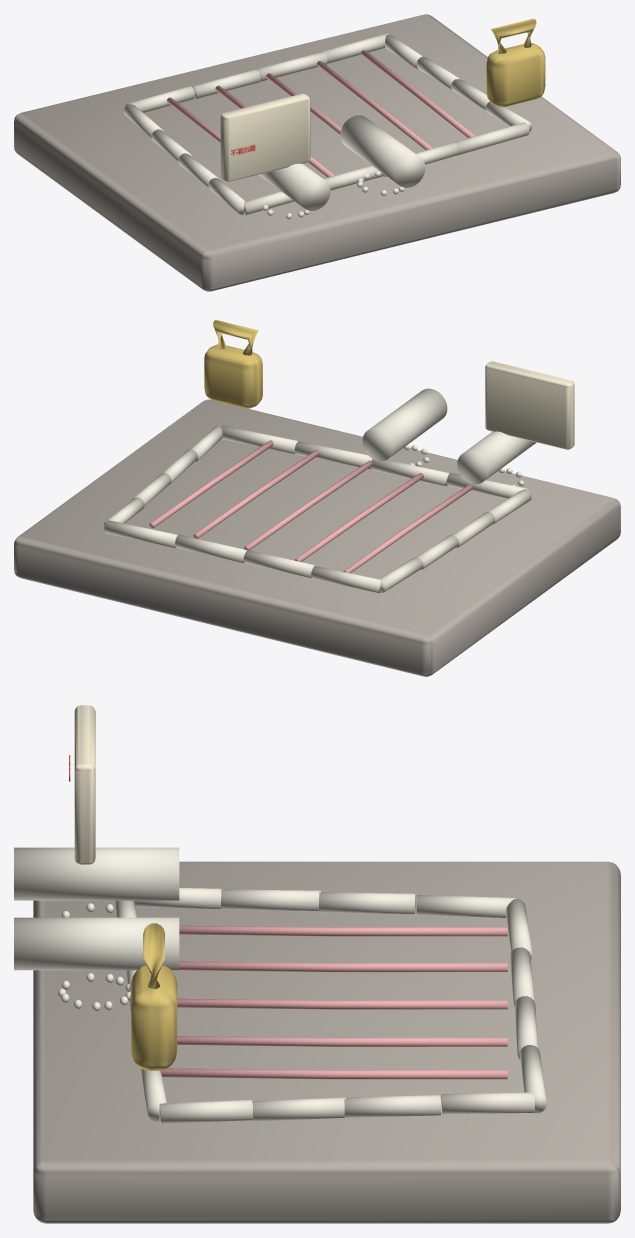
File: Q08_Chalk_Draw_Prison.glb
3 renders of one model, top to bottom at view 1: azimuth 30°, elevation 25°; view 2: azimuth 150°, elevation 25°; view 3: azimuth 270°, elevation 25°, orthographic. The views are drawn at different scales.
Visible parts, largest first — view 1: Q08 low rough tactile school classroom floor slab, Q08_CHALK_PRISON_ACTOR | Real white plaster molded chalk sti, Q08 written discipline notice paper sign, Q08_CHALK_STICK_ACTOR | Real white plaster molded chalk stic, Q08_LOCK_ACTOR | School gold brass lock and key old hardware, Q08_CHALK_PRISON_ACTOR | Pastel pink fluorescent-looking non; view 2: Q08 low rough tactile school classroom floor slab, Q08_CHALK_PRISON_ACTOR | Real white plaster molded chalk sti, Q08 written discipline notice paper sign, Q08_CHALK_STICK_ACTOR | Real white plaster molded chalk stic, Q08_CHALK_PRISON_ACTOR | Pastel pink fluorescent-looking non, Q08_LOCK_ACTOR | School gold brass lock and key old hardware; view 3: Q08 low rough tactile school classroom floor slab, Q08_CHALK_PRISON_ACTOR | Real white plaster molded chalk sti, Q08_CHALK_STICK_ACTOR | Real white plaster molded chalk stic, Q08_CHALK_PRISON_ACTOR | Pastel pink fluorescent-looking non, Q08_LOCK_ACTOR | School gold brass lock and key old hardware, Q08 written discipline notice paper sign.
Part boxes in pixels (x1,y1,x2,y2): Q08 low rough tactile school classroom floor slab: (14, 14, 620, 291); Q08_CHALK_PRISON_ACTOR | Real white plaster molded chalk sti: (123, 33, 532, 215); Q08 written discipline notice paper sign: (220, 93, 310, 181); Q08_CHALK_STICK_ACTOR | Real white plaster molded chalk stic: (259, 115, 425, 219); Q08_LOCK_ACTOR | School gold brass lock and key old hardware: (486, 18, 545, 107); Q08_CHALK_PRISON_ACTOR | Pastel pink fluorescent-looking non: (167, 50, 475, 177); Q08 low rough tactile school classroom floor slab: (14, 399, 620, 676); Q08_CHALK_PRISON_ACTOR | Real white plaster molded chalk sti: (104, 425, 531, 593); Q08 written discipline notice paper sign: (485, 361, 574, 449); Q08_CHALK_STICK_ACTOR | Real white plaster molded chalk stic: (362, 388, 536, 486); Q08_CHALK_PRISON_ACTOR | Pastel pink fluorescent-looking non: (149, 440, 472, 573); Q08_LOCK_ACTOR | School gold brass lock and key old hardware: (204, 320, 262, 408); Q08 low rough tactile school classroom floor slab: (33, 861, 620, 1223); Q08_CHALK_PRISON_ACTOR | Real white plaster molded chalk sti: (114, 888, 546, 1123); Q08_CHALK_STICK_ACTOR | Real white plaster molded chalk stic: (14, 847, 179, 1011); Q08_CHALK_PRISON_ACTOR | Pastel pink fluorescent-looking non: (160, 925, 507, 1079); Q08_LOCK_ACTOR | School gold brass lock and key old hardware: (131, 923, 177, 1070); Q08 written discipline notice paper sign: (74, 705, 95, 864).
Bounding box in the file's own units: 1.9 × 0.695 × 1.58.
